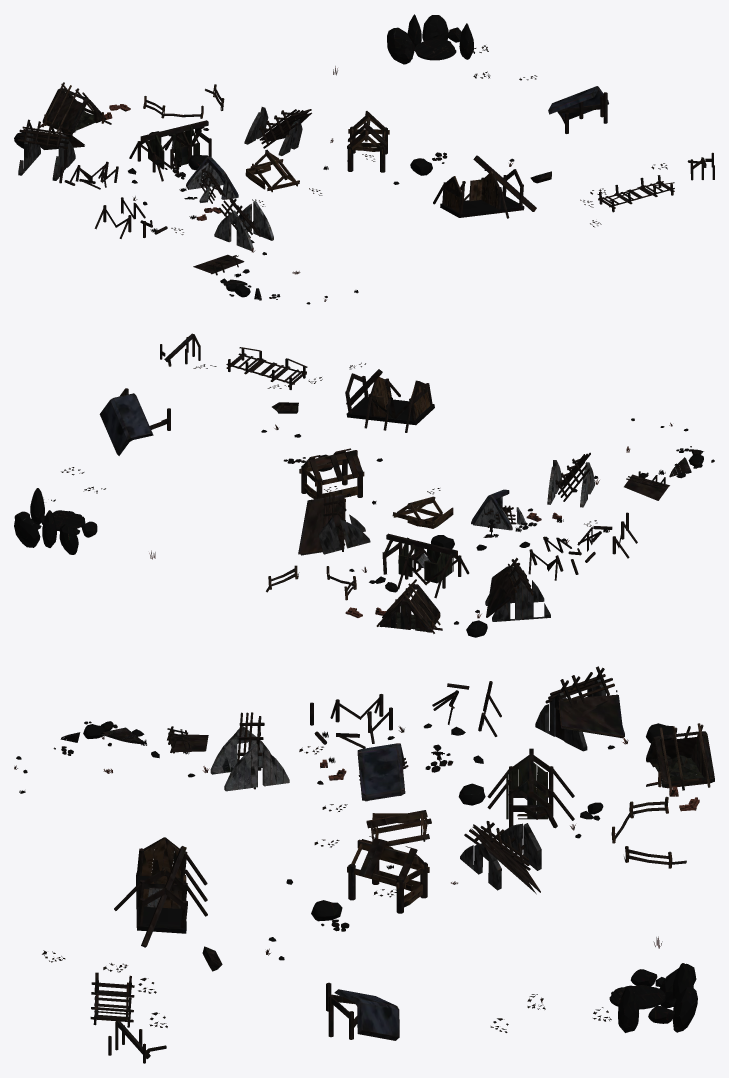
File: DECORS_compressed.glb
3 renders of one model, top to bottom at view 1: azimuth 30°, elevation 25°; view 2: azimuth 150°, elevation 25°; view 3: azimuth 270°, elevation 25°, orthographic. The views are drawn at different scales.
Parts seen in each view (by area): view 1: +barac; view 2: +barac; view 3: +barac.
Boxes of the visible parts, bbox=[...] form: +barac: bbox=[14, 14, 714, 304]; +barac: bbox=[14, 333, 714, 637]; +barac: bbox=[14, 666, 714, 1063].
Size of the model in its own units: 51.77 by 6.37 by 44.2.
Materials: 1 (1 with a texture image).
